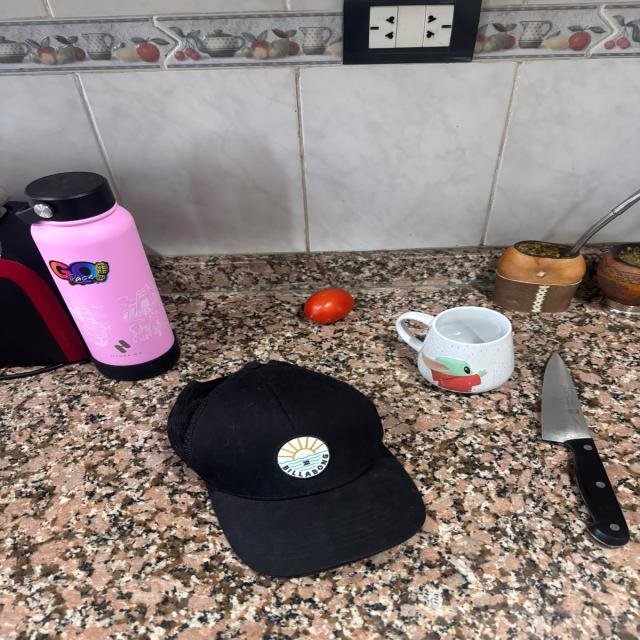Gorra: (163, 358, 431, 590)
